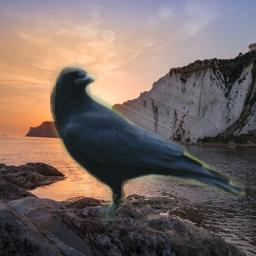Crow: (50, 62, 245, 221)
